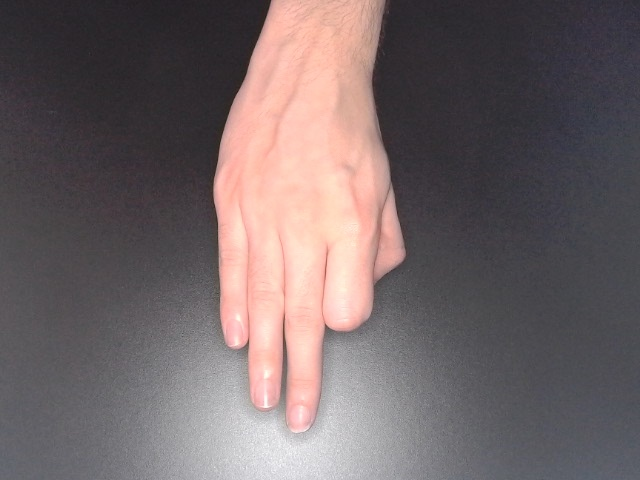m: (207, 1, 411, 441)
